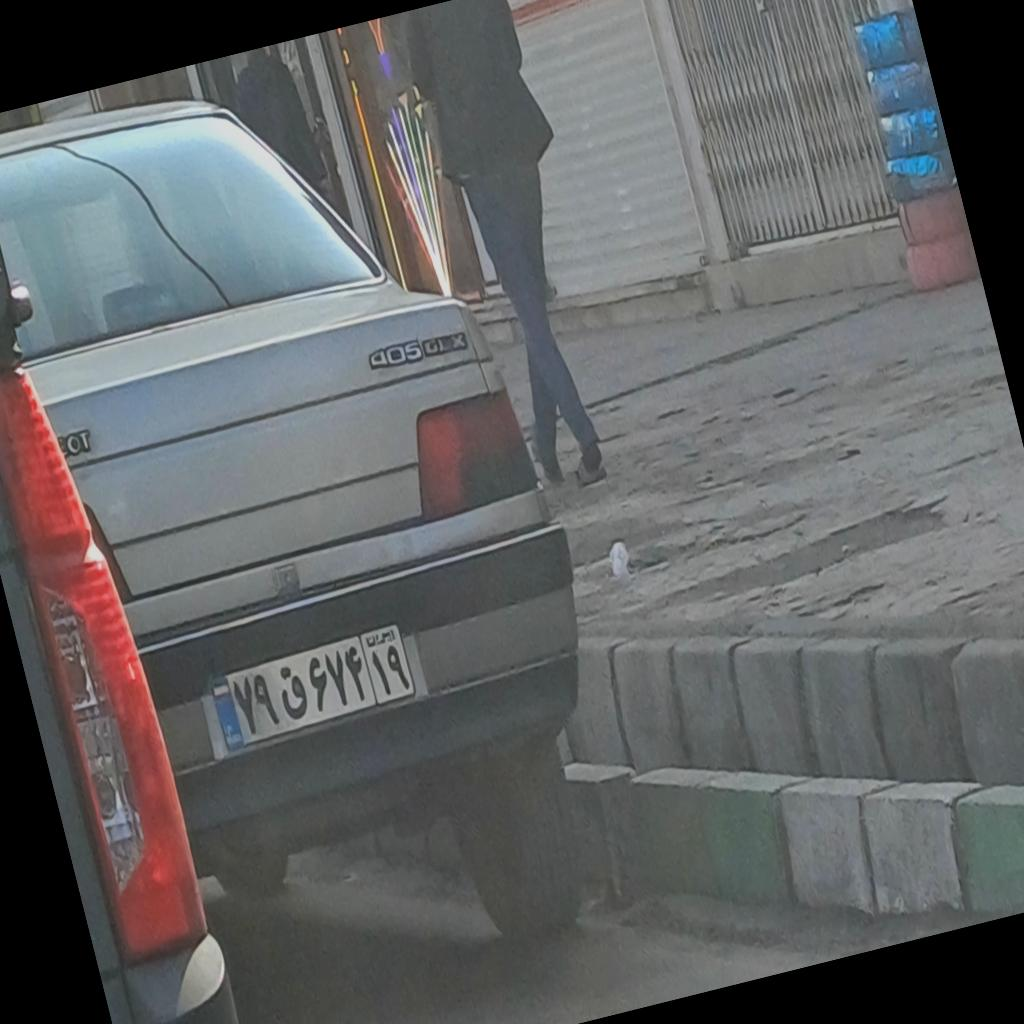Plates: (207, 619, 420, 754)
